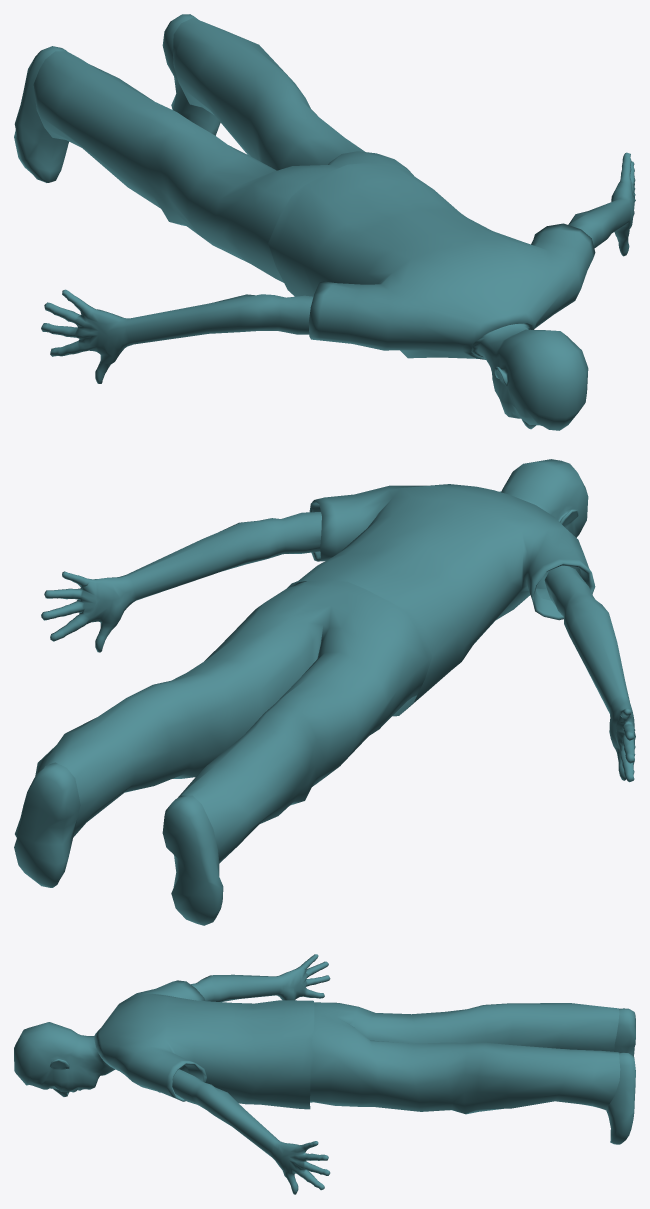
Rendered from Patrick.dae.
The picture shows the model from 3 angles, top to bottom: view 1: azimuth 30°, elevation 25°; view 2: azimuth 150°, elevation 25°; view 3: azimuth 270°, elevation 25°; orthographic projection. The views are drawn at different scales.
Visible parts, largest first — view 1: Patrick_obj; view 2: Patrick_obj; view 3: Patrick_obj.
Boxes of the visible parts, x1,y1,x2,y2 form: Patrick_obj: (14,14,635,430); Patrick_obj: (14,459,635,925); Patrick_obj: (14,954,635,1194).
Size of the model in its own units: 1.53 by 2.03 by 0.3962.
